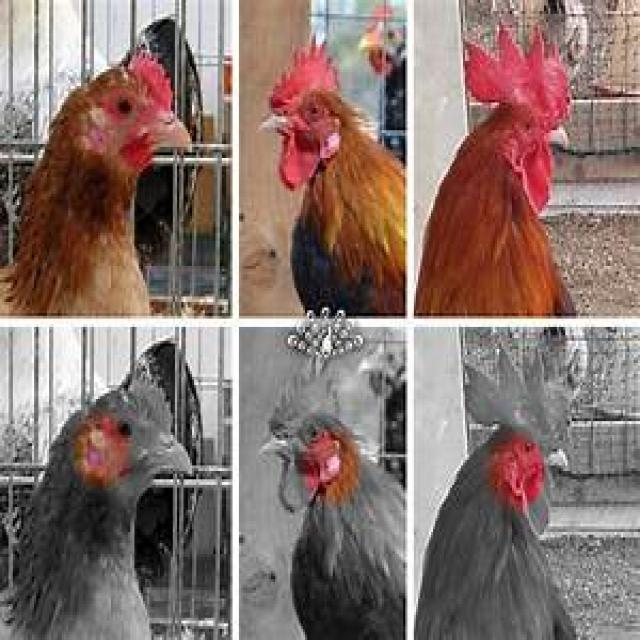animal: (0, 46, 212, 321), (3, 362, 195, 640), (413, 341, 585, 640), (413, 19, 586, 316), (245, 363, 406, 640), (255, 27, 407, 320)
